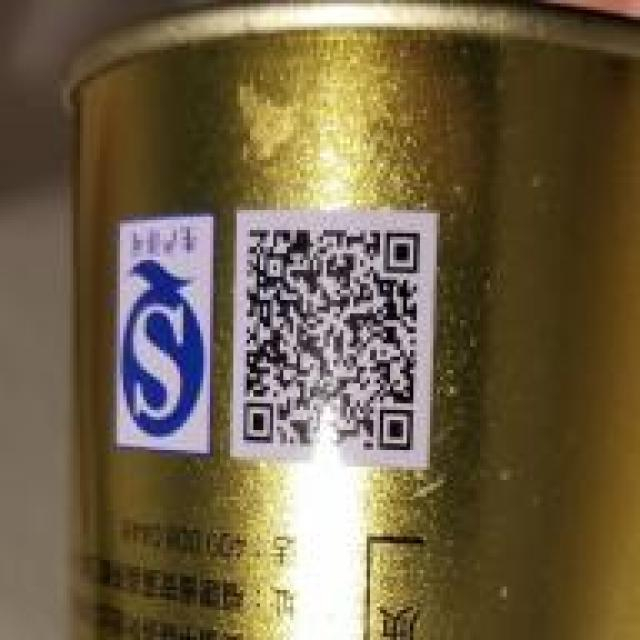qr_code: (242, 229, 421, 450)
